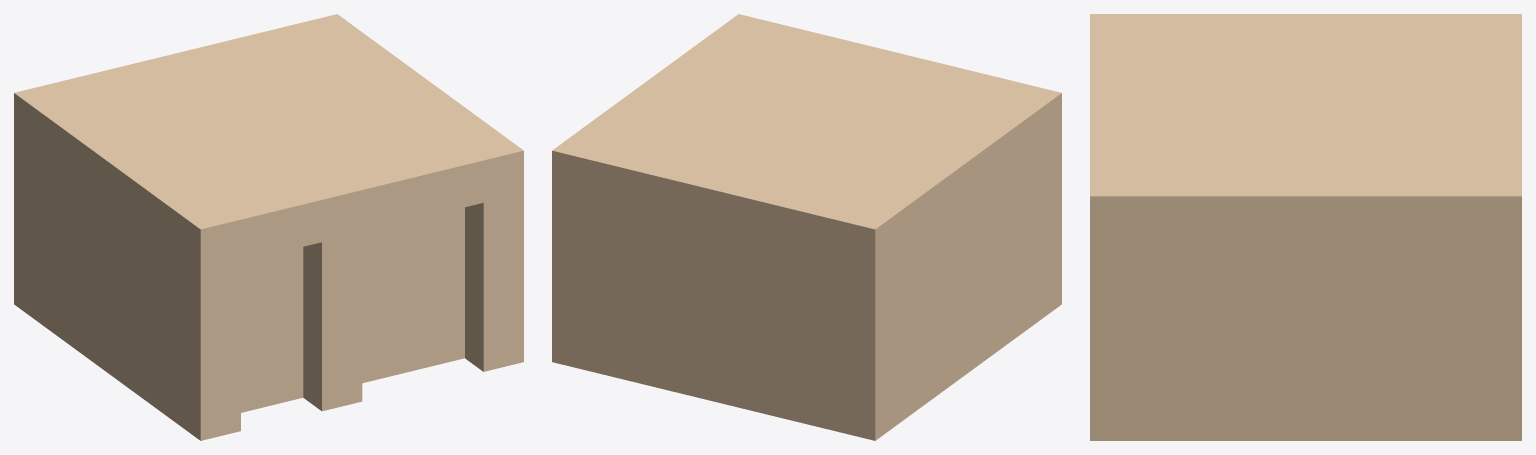
File: building-door-window.obj
3 renders of one model, left to right at view 1: azimuth 30°, elevation 25°; view 2: azimuth 150°, elevation 25°; view 3: azimuth 270°, elevation 25°, orthographic. The views are drawn at different scales.
Bounding box in the file's own units: 1 × 0.625 × 1.
